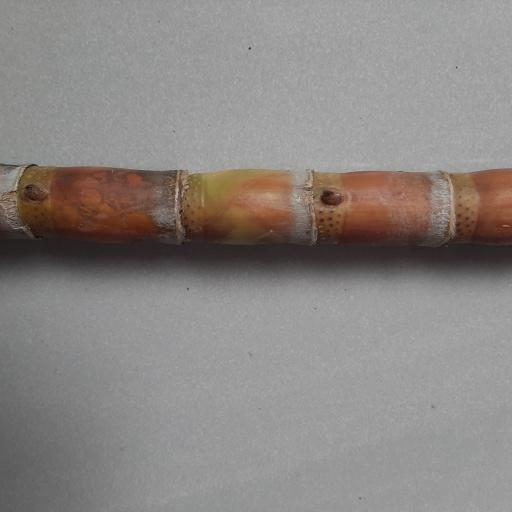Bud: (320, 187, 346, 208)
